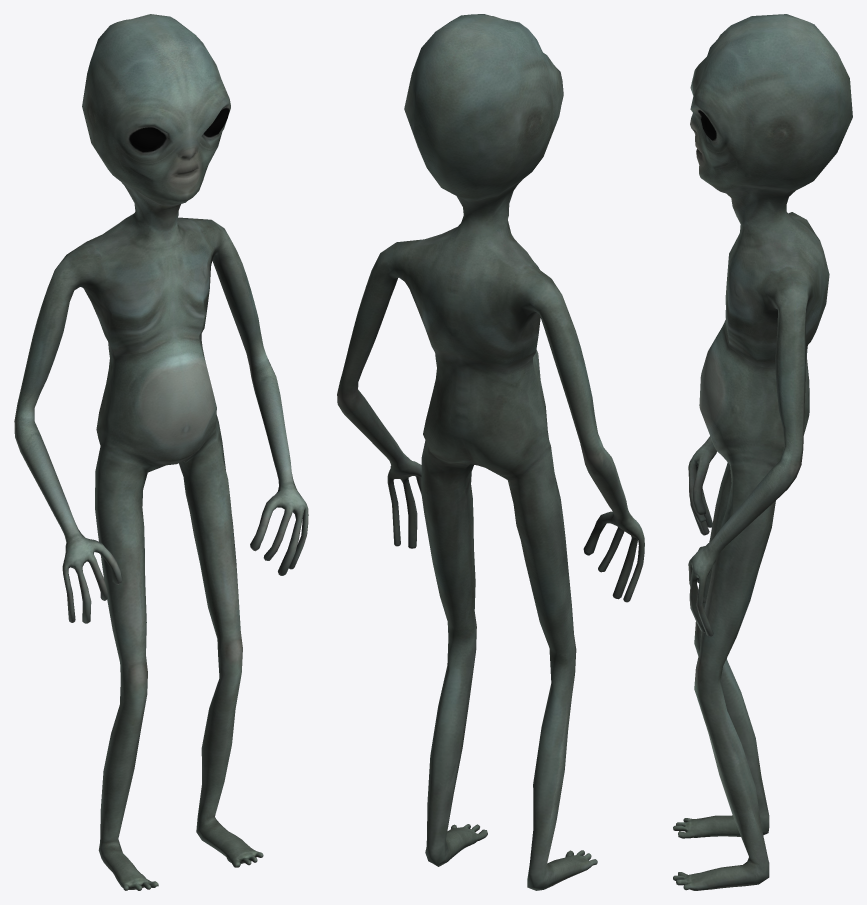
Rendered from alien.obj.
3 views of the same model, side by side, from view 1: azimuth 30°, elevation 25°; view 2: azimuth 150°, elevation 25°; view 3: azimuth 270°, elevation 25° (orthographic). The views are drawn at different scales.
Parts seen in each view (by area): view 1: Alien_low_poly; view 2: Alien_low_poly; view 3: Alien_low_poly.
Part boxes in pixels (x1,y1,x2,y2): Alien_low_poly: (14,14,308,890); Alien_low_poly: (337,14,644,890); Alien_low_poly: (673,14,852,890).
Size of the model in its own units: 0.4086 by 1.24 by 0.242.
